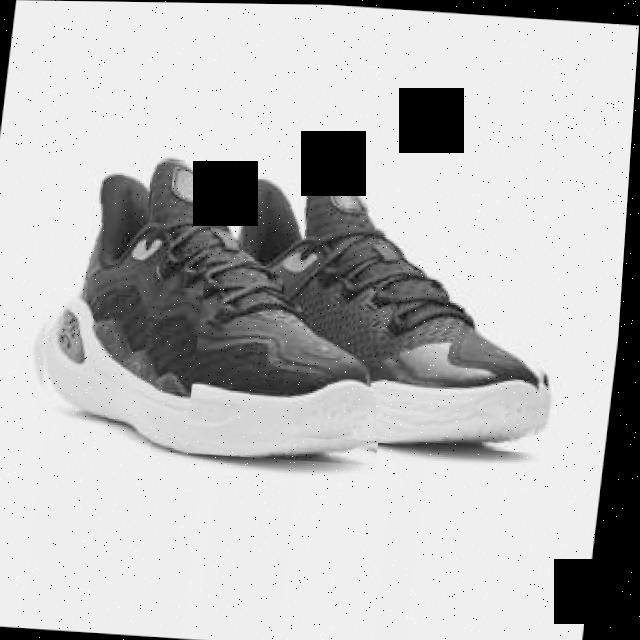shoe: (28, 150, 413, 464), (192, 166, 578, 452)
